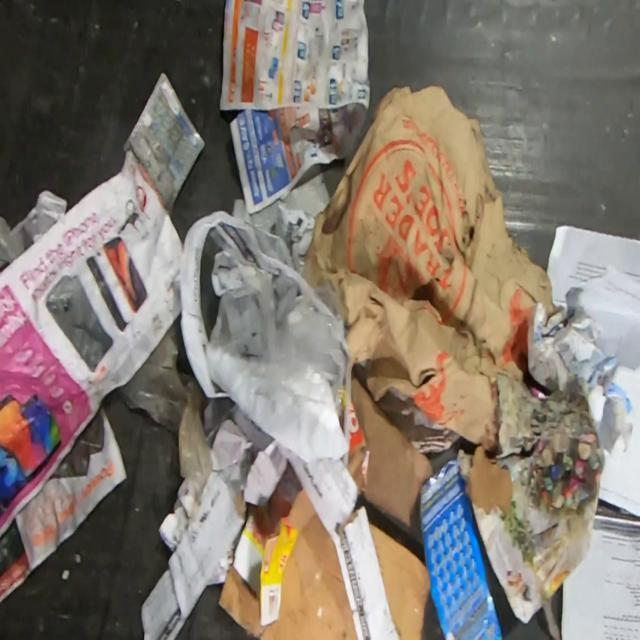cardboard: (494, 301, 636, 523), (216, 488, 359, 640), (418, 456, 503, 639), (341, 376, 434, 530), (369, 522, 431, 640)
soft_plastic: (204, 273, 352, 435), (115, 321, 212, 490), (0, 190, 69, 269)
